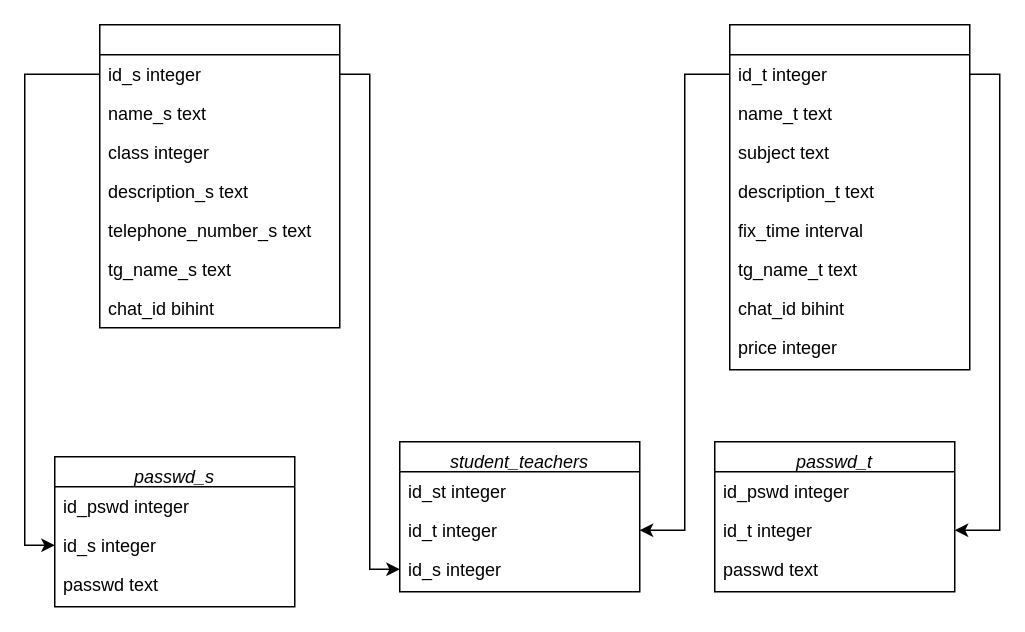
The diagram is 1025 pixels wide and 632 high, and some of its shapes have lost their labels. The shapes that lost their labels are listed below. From the top down, each one's box as (x1, y1, x2, y2) in pixels, then its label:
(98, 23, 340, 328): students
(728, 23, 970, 370): teachers
